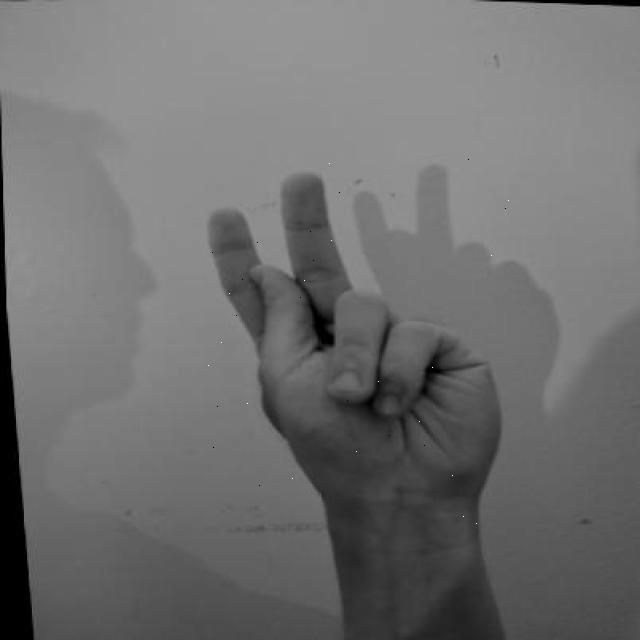K: (191, 152, 517, 542)
